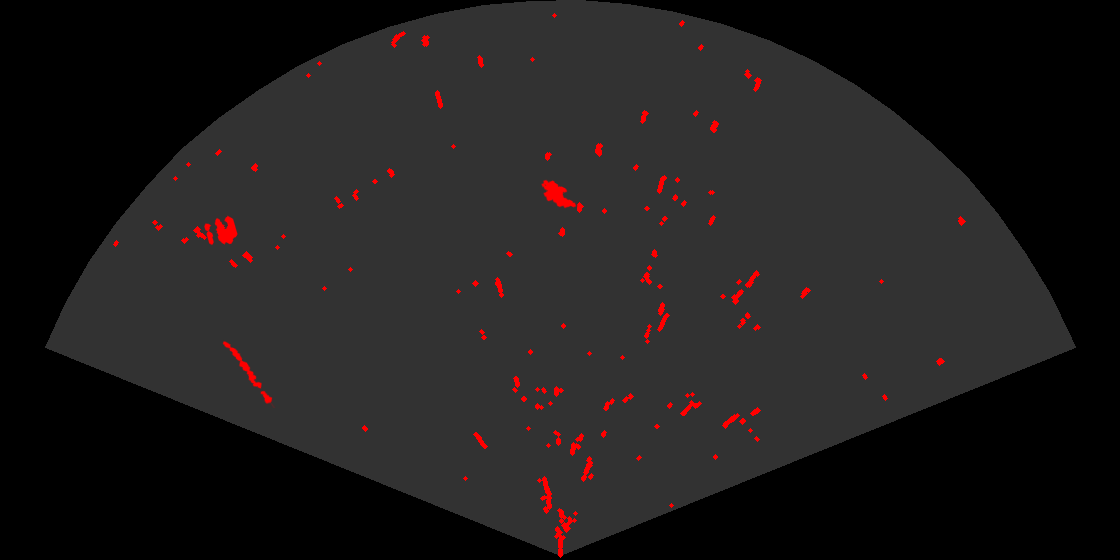AUV: (540, 178, 578, 210)
ball: (203, 214, 239, 247)
chain: (221, 339, 277, 408)
